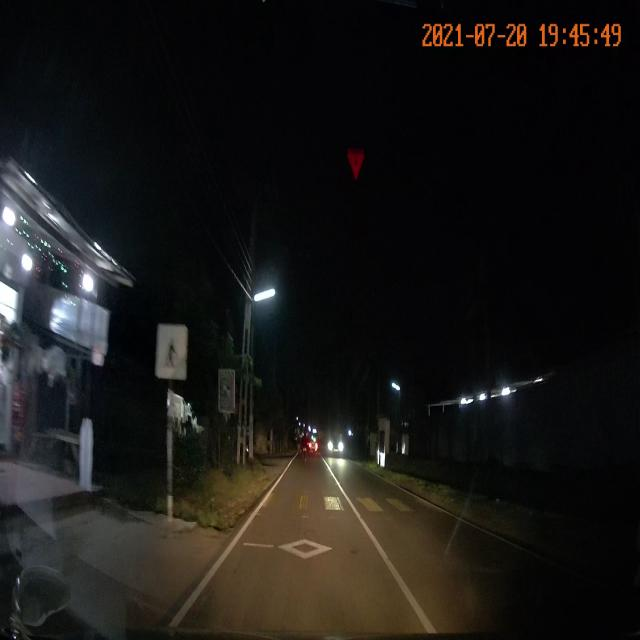diamond: (192, 524, 412, 590)
